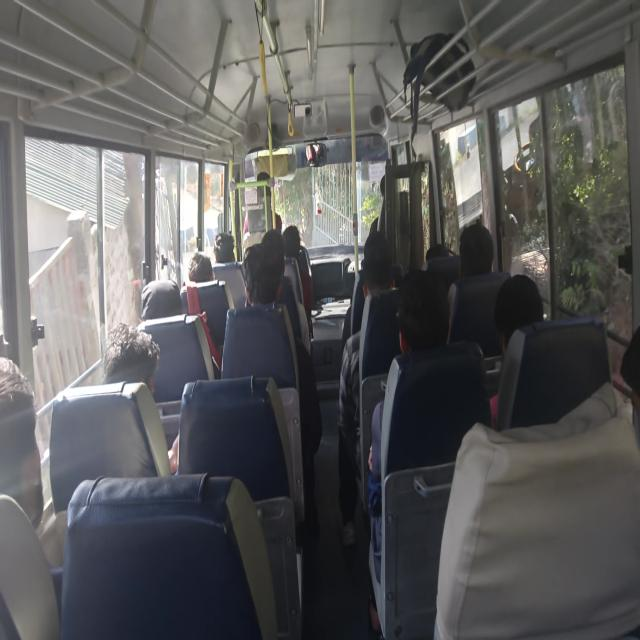person: (366, 269, 451, 635), (242, 235, 322, 528), (337, 229, 395, 546), (0, 355, 67, 570), (102, 321, 179, 475), (489, 273, 544, 425), (447, 222, 494, 333), (494, 273, 544, 354), (140, 279, 183, 320), (188, 252, 214, 282), (213, 231, 236, 263)
